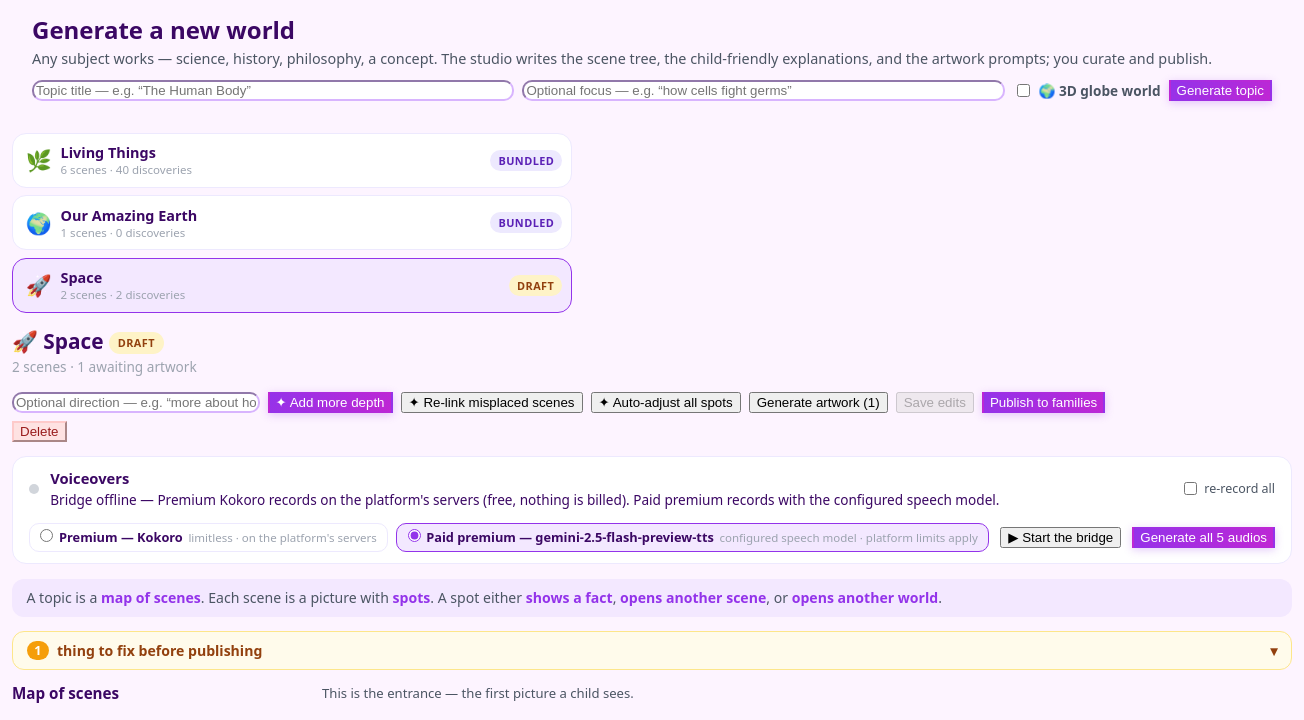
Test: WikidoStudio — voice engine picker (premium vs paid premium) › picking Kokoro on production enqueues a server-side job — the tab can close
What coordinates should you click on to do the following:
click the radio button labelled "Premium — Kokoro limitless · on the platform's servers"
I would click on:
 (47, 536)
Its box is left=40, top=529, right=53, bottom=542.
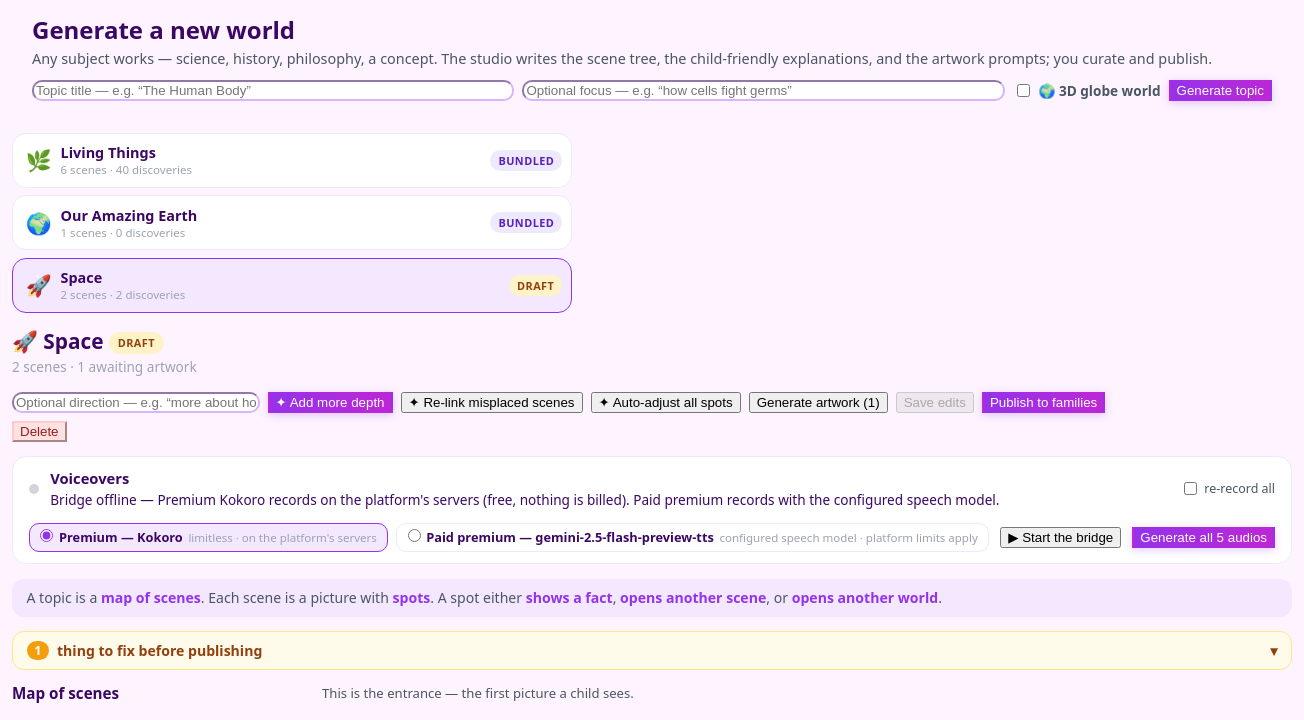
What coordinates should you click on to do the following:
click the button "Generate all 5 audios"
I would click on:
 (1204, 537)
Its box is left=1132, top=527, right=1275, bottom=548.
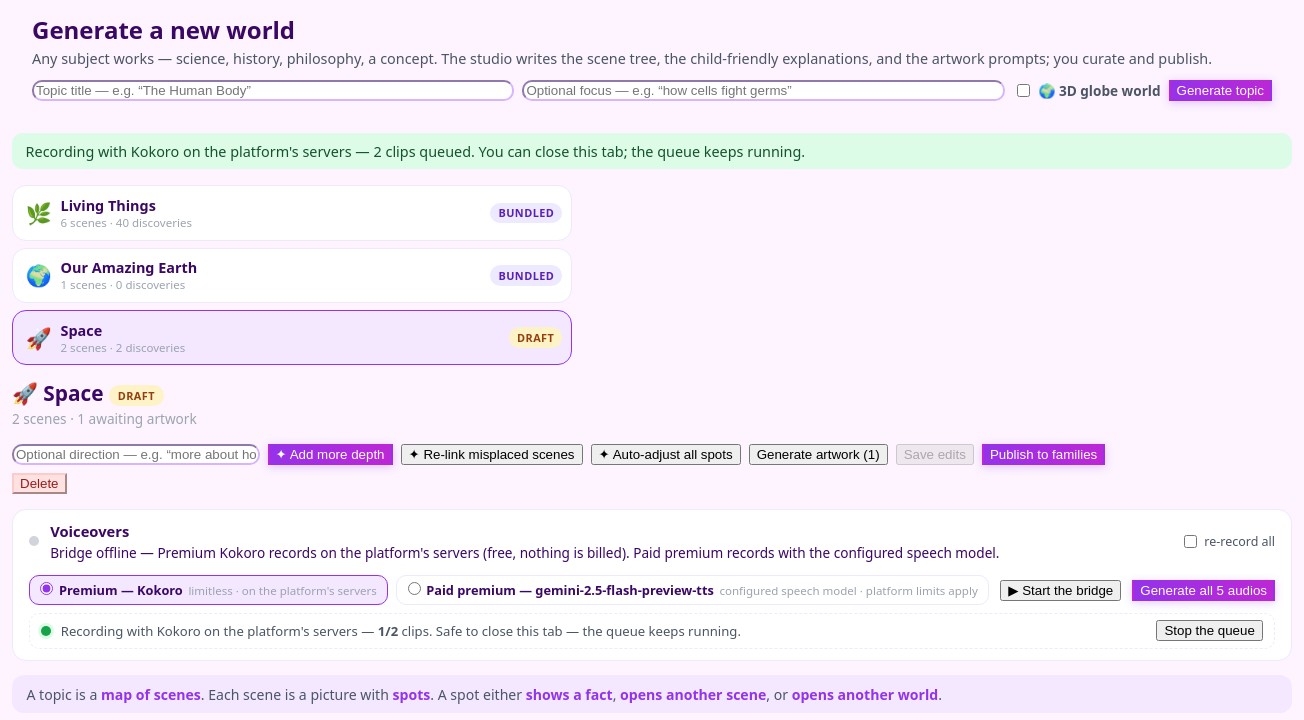
expect the text "Recording with Kokoro on the platform's servers — 1/2 clips" is shown: met, box left=29, top=613, right=1275, bottom=649
expect the text "Safe to close this tab" is shown: met, box left=429, top=622, right=741, bottom=640
expect the button "Stop the queue" is shown: met, box left=1156, top=620, right=1263, bottom=641
